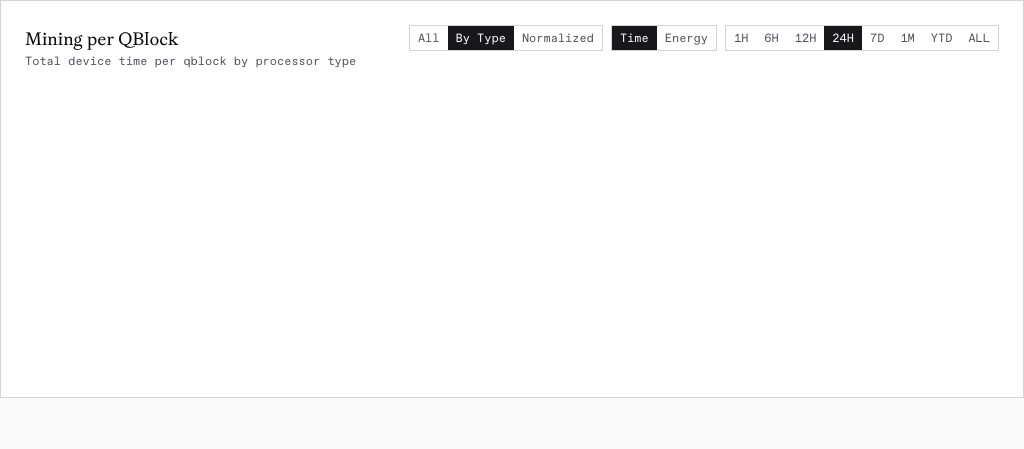
Scenario: MiningTimeCard › subtitle reflects participant totals and follows the toggles
Click the button "Energy".
click(686, 38)  # box [657, 26, 716, 50]
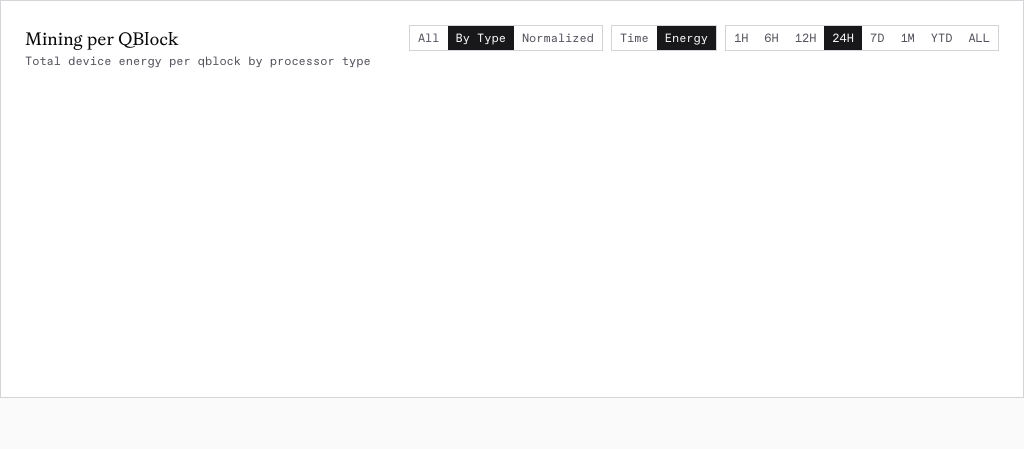
Expected: the text "Total device energy per qblock by processor type" is shown, [25, 53, 371, 69]
Click the button "Normalized".
click(558, 38)  # box [514, 26, 602, 50]
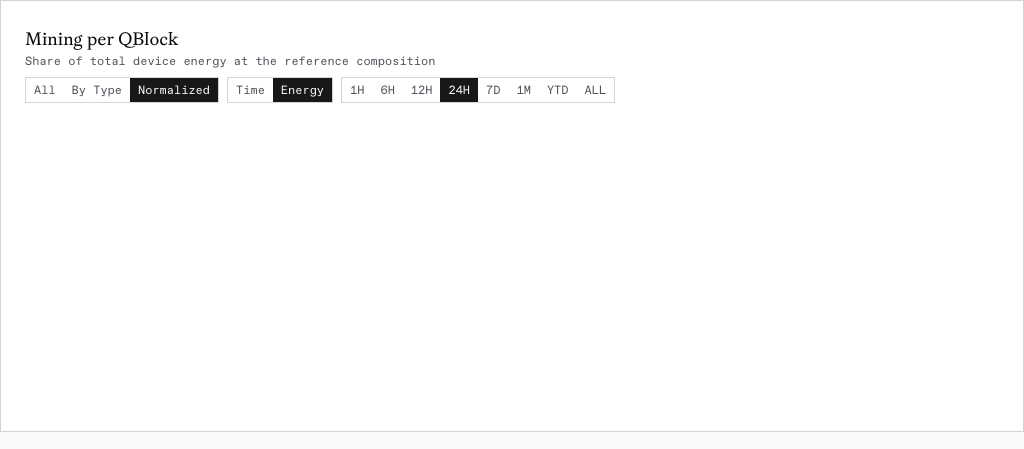
Expected: the text "Share of total device energy at the reference composition" is shown, [25, 53, 435, 69]
